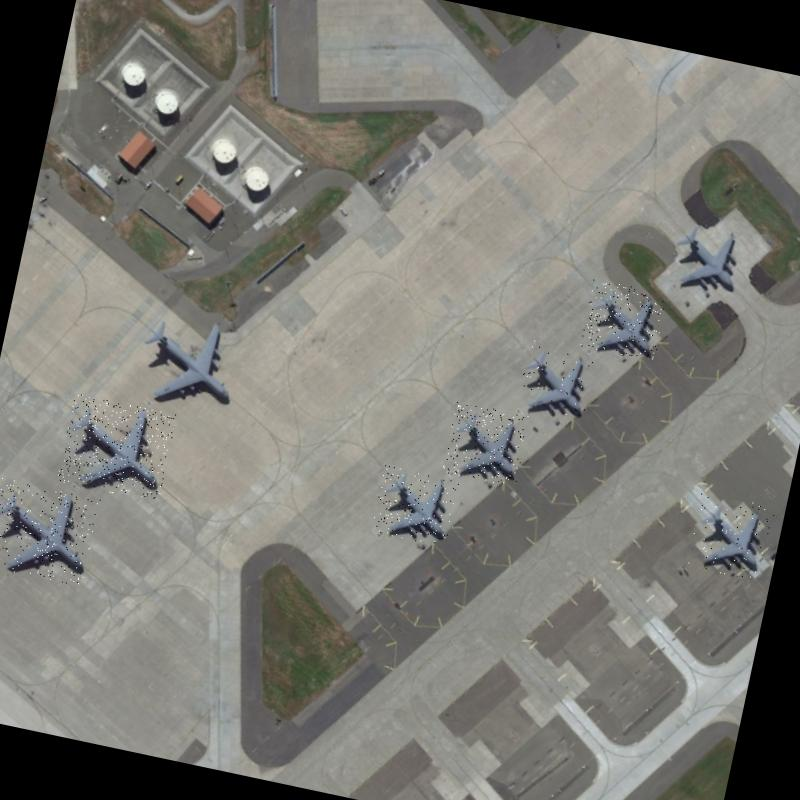A3: (686, 492, 776, 582), (442, 401, 531, 488), (662, 214, 752, 299), (579, 278, 669, 362), (371, 464, 460, 548), (514, 339, 598, 420)
A4: (129, 304, 251, 415), (57, 393, 177, 503), (0, 477, 101, 588)
